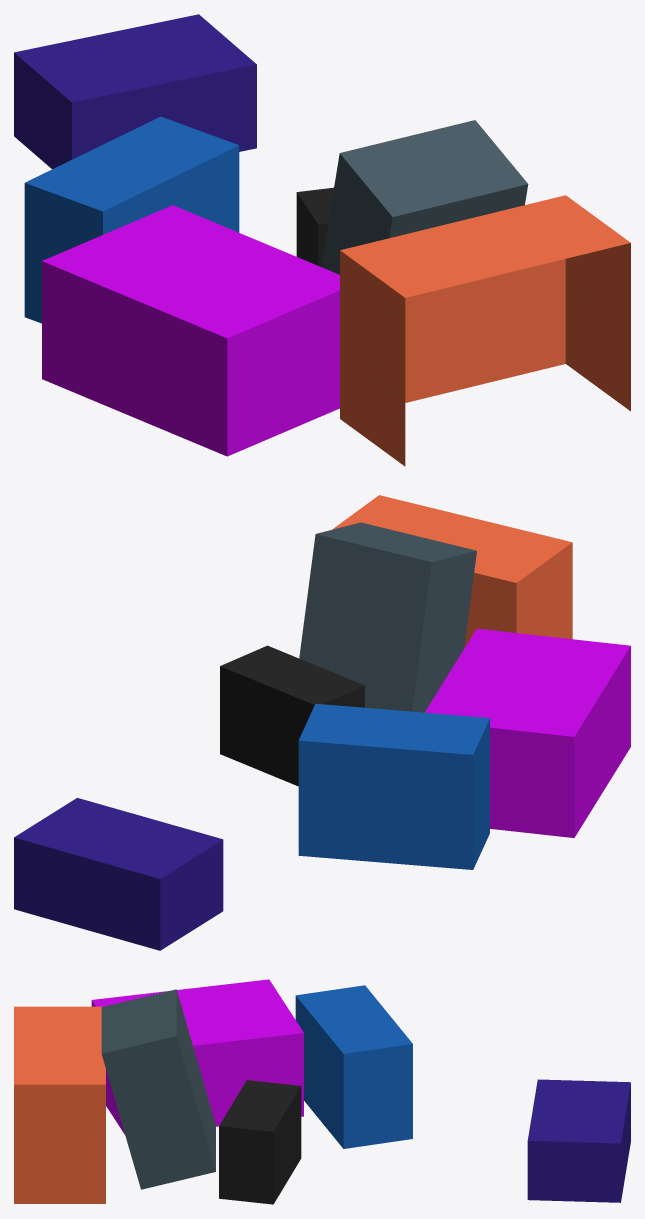
The model's file is Luggage_Pile_2.fbx.
The picture shows the model from 3 angles, top to bottom: view 1: azimuth 30°, elevation 25°; view 2: azimuth 150°, elevation 25°; view 3: azimuth 270°, elevation 25°; orthographic projection. The views are drawn at different scales.
Visible parts, largest first — view 1: Luggage_Pile_2; view 2: Luggage_Pile_2; view 3: Luggage_Pile_2.
Part boxes in pixels (x1,y1,x2,y2): Luggage_Pile_2: (14,14,630,466); Luggage_Pile_2: (14,495,630,950); Luggage_Pile_2: (14,979,630,1204).
Size of the model in its own units: 127 by 64.43 by 234.
Materials: 1 (1 with a texture image).
